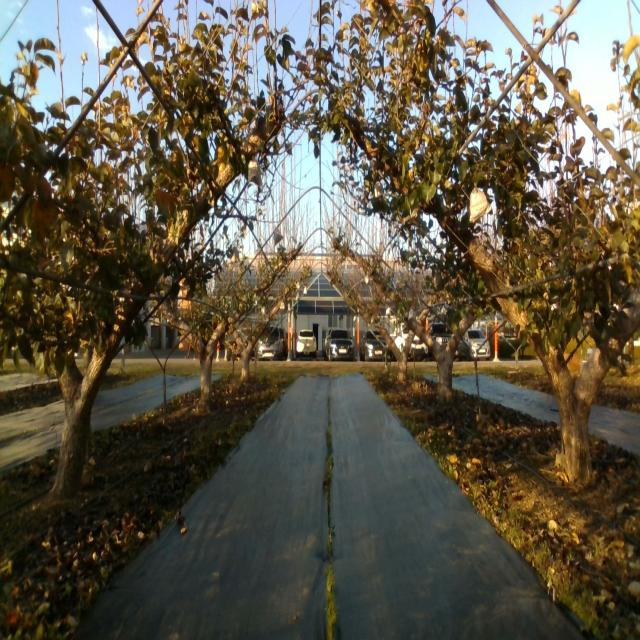pearbags: (469, 185, 491, 222), (248, 160, 262, 186)
